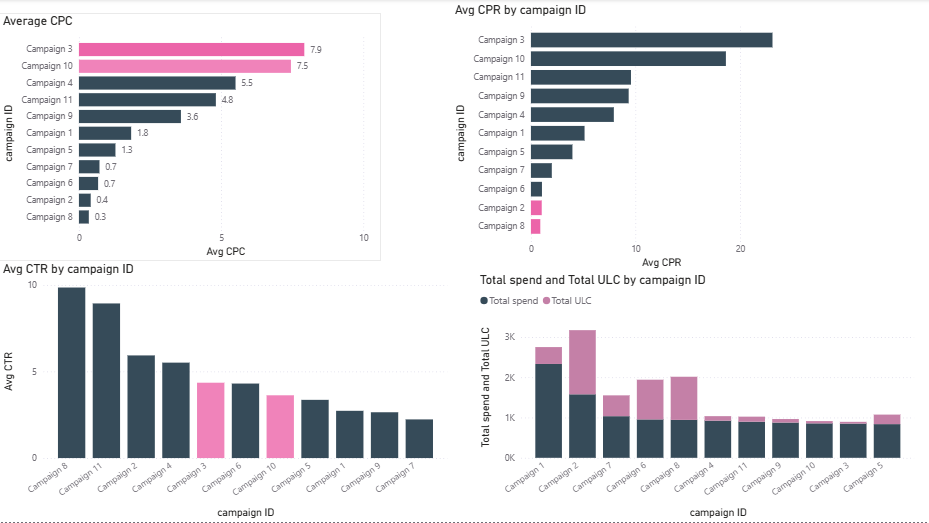

The dashboard page shown, as its layout file describes it:
{"tool":"powerbi","page":{"name":"Campaign Performance Comparison","canvas":[1280,720],"ordinal":1},"visuals":[{"type":"clusteredBarChart","title":"Average CPC","fields":{"Category":["Sheet1.campaign ID"],"Y":["Sheet1.Avg CPC"]},"box":[0,19.3,525.8,341.3],"z":0},{"type":"barChart","fields":{"Category":["Sheet1.campaign ID"],"Y":["Sheet1.Avg CPR"]},"box":[622.1,4.1,481.7,371.6],"z":1000},{"type":"clusteredColumnChart","fields":{"Category":["Sheet1.campaign ID"],"Y":["Sheet1.Avg CTR"]},"box":[0,360.6,622.1,359.2],"z":2000},{"type":"columnChart","fields":{"Category":["Sheet1.campaign ID"],"Y":["Sheet1.Total spend","Sheet1.Total ULC"]},"box":[656.5,375.7,608.3,344.1],"z":3000}]}

Visuals, with their boxes in screenshot pixels (x1, y1, x2, y2), scaled from the page's 1280x720 canvas onto the 929x523 screenshot:
"Average CPC" clusteredBarChart: (left=0, top=14, right=382, bottom=262)
barChart - Sheet1.campaign ID x Sheet1.Avg CPR: (left=452, top=3, right=801, bottom=273)
clusteredColumnChart - Sheet1.campaign ID x Sheet1.Avg CTR: (left=0, top=262, right=452, bottom=522)
columnChart - Sheet1.campaign ID x Sheet1.Total spend: (left=476, top=273, right=918, bottom=522)
